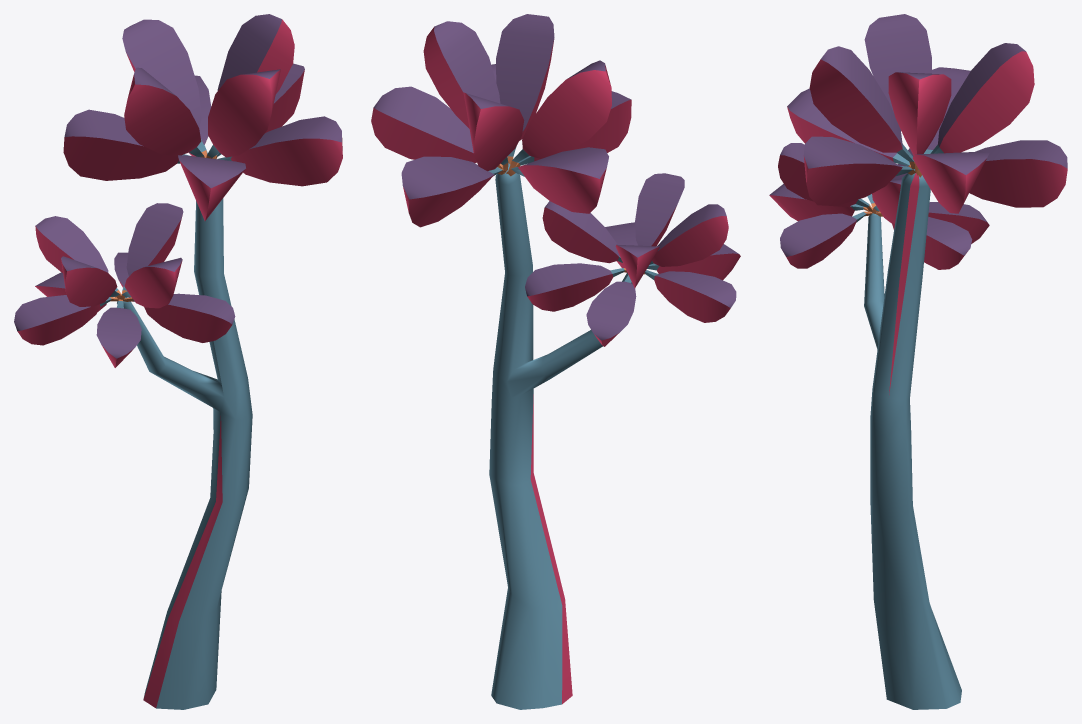
File: Tree_3.fbx
The picture shows the model from 3 angles, left to right: view 1: azimuth 30°, elevation 25°; view 2: azimuth 150°, elevation 25°; view 3: azimuth 270°, elevation 25°; orthographic projection. The views are drawn at different scales.
Parts seen in each view (by area): view 1: Tree_3; view 2: Tree_3; view 3: Tree_3.
Part boxes in pixels (box(x1,y1,x2,y2)): Tree_3: box(14, 14, 342, 709); Tree_3: box(371, 14, 740, 709); Tree_3: box(769, 14, 1067, 709).
Size of the model in its own units: 346 by 666 by 270.
